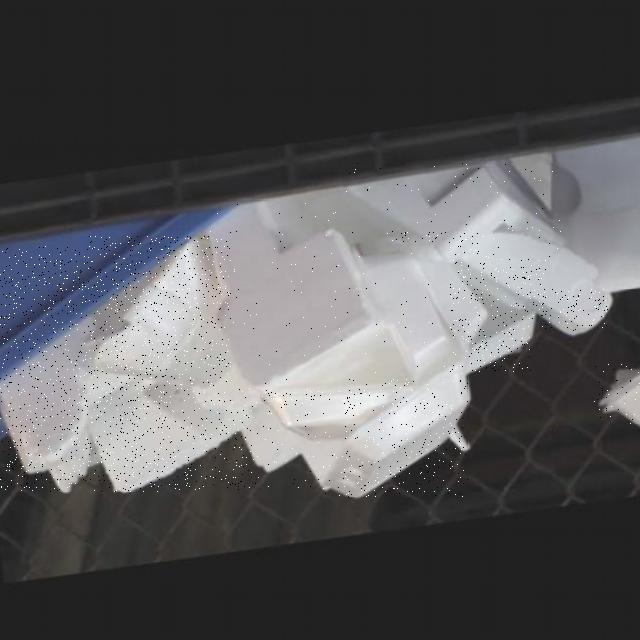styrofoam: (0, 246, 176, 492), (201, 200, 378, 389), (314, 354, 468, 496), (89, 236, 231, 385), (344, 163, 561, 258), (86, 380, 252, 490), (444, 226, 608, 331), (548, 129, 640, 288), (348, 243, 450, 381), (388, 231, 485, 356), (449, 257, 531, 371), (236, 402, 343, 487), (260, 379, 408, 437), (595, 364, 640, 423)
